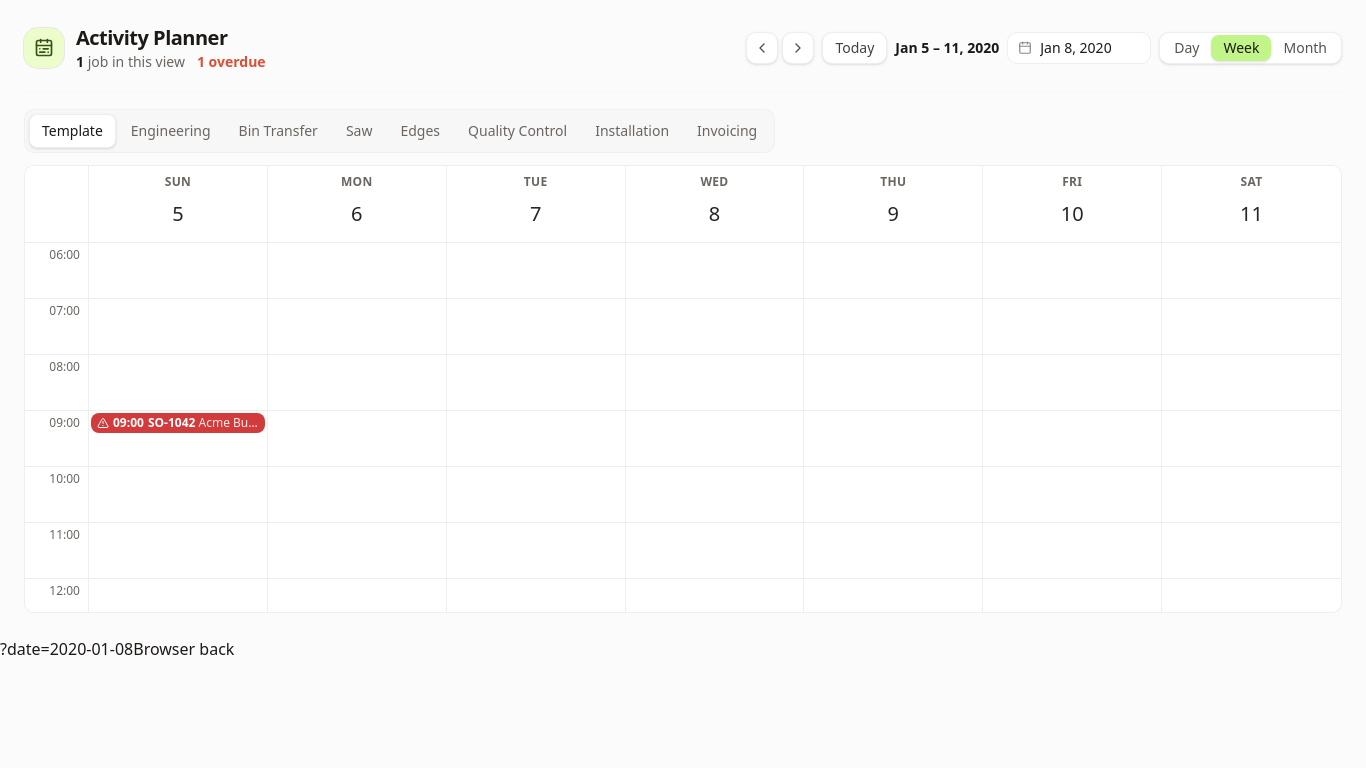
Scenario: ActivityPlannerPage › flags work whose time has passed as overdue
The width and height of the screenshot is (1366, 768).
(page scrolled)
Check: the text "1 overdue" is shown, box [197, 52, 266, 72]
Click the button "09:00 SO-1042 Acme Builders" at point(178, 423), box [91, 413, 265, 433]
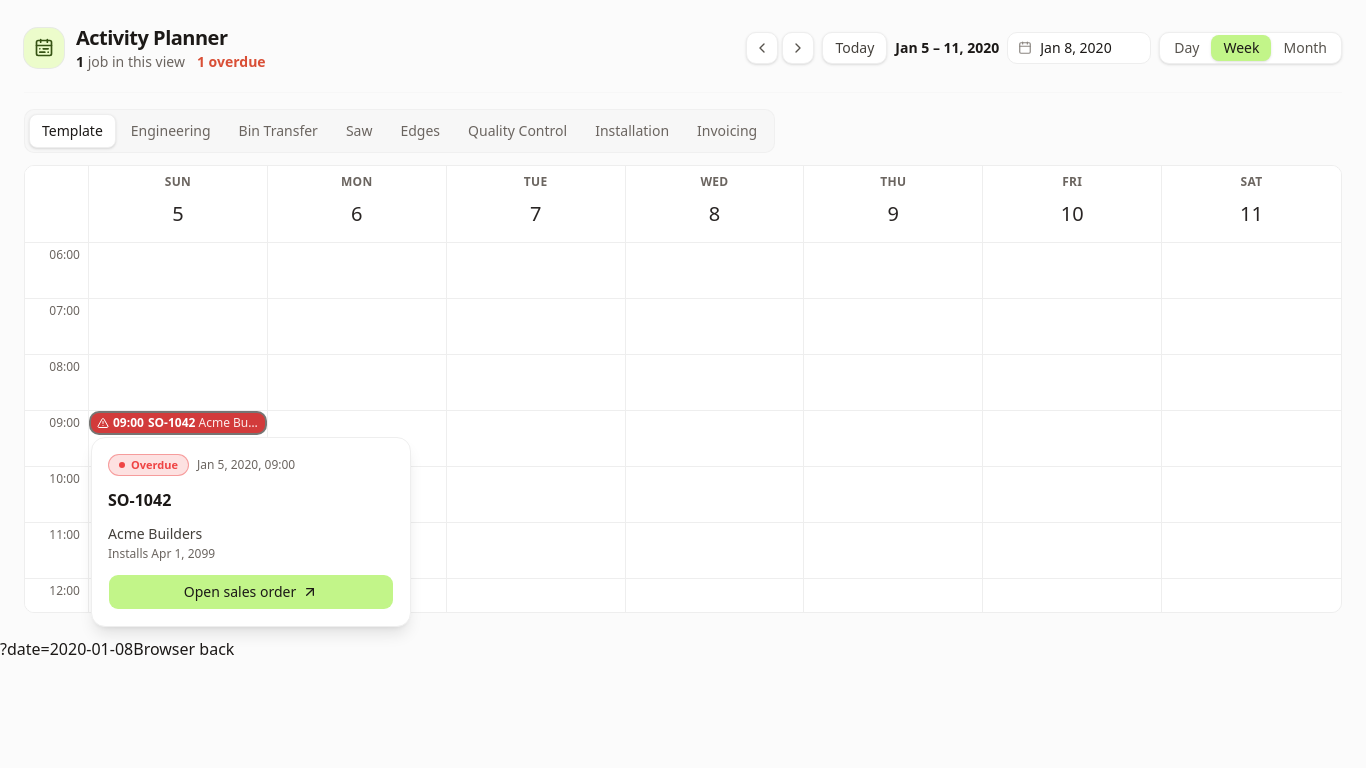
Check: the text "Overdue" is shown, box [108, 454, 189, 476]
